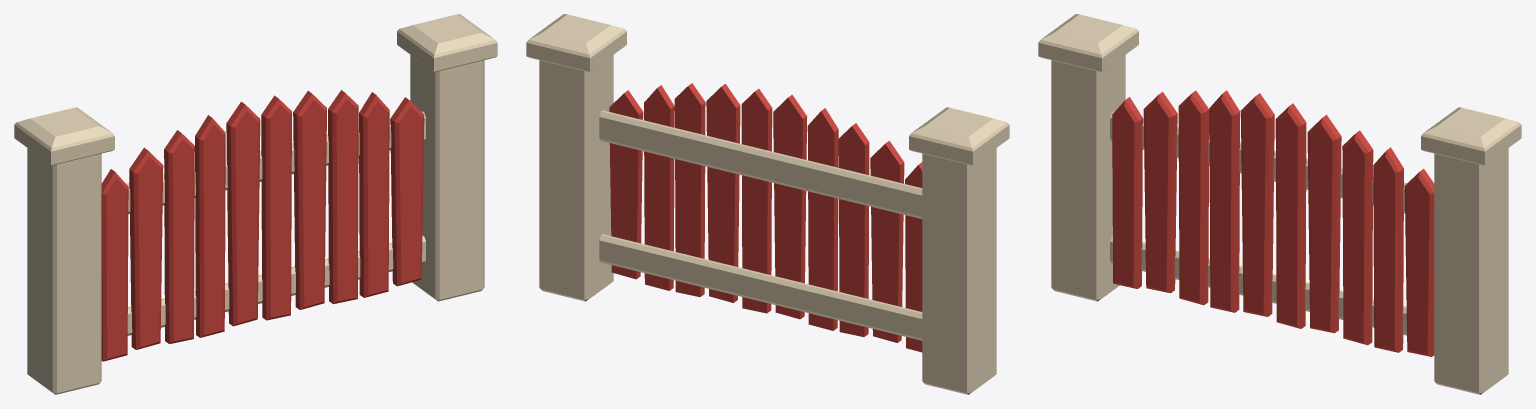
The model's file is fence_b.gltf.
The picture shows the model from 3 angles, left to right: view 1: azimuth 30°, elevation 25°; view 2: azimuth 150°, elevation 25°; view 3: azimuth 330°, elevation 25°; orthographic projection.
Parts seen in each view (by area): view 1: fence_b001; view 2: fence_b001; view 3: fence_b001.
Part boxes in pixels (x1=…): fence_b001: x1=14, y1=14, x2=497, y2=394; fence_b001: x1=526, y1=14, x2=1009, y2=394; fence_b001: x1=1038, y1=14, x2=1521, y2=394.
Size of the model in its own units: 1.82 by 1 by 0.26.
1 material, 1 textured.
